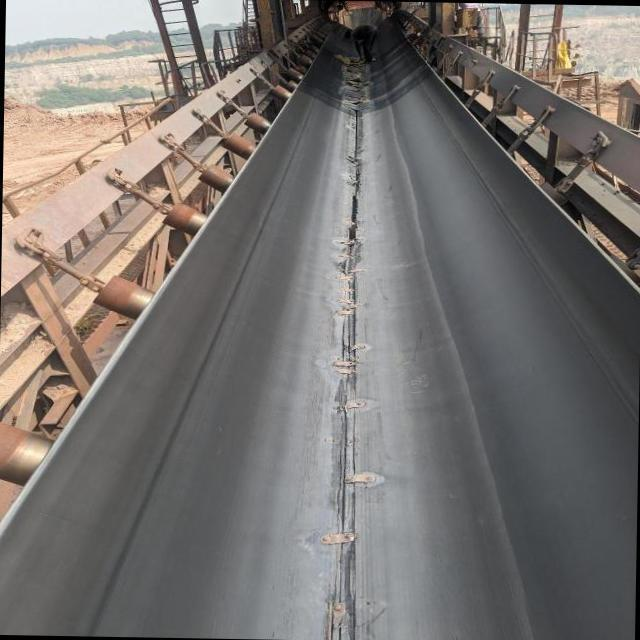Tear: (344, 103, 364, 262)
